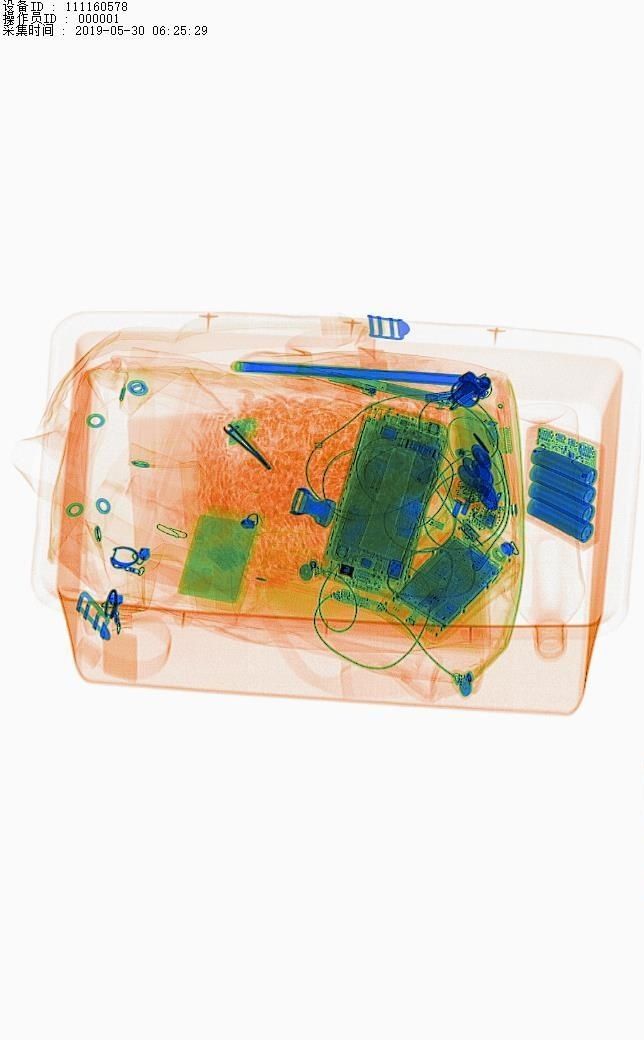NonmetallicFire: (283, 360, 389, 405)
